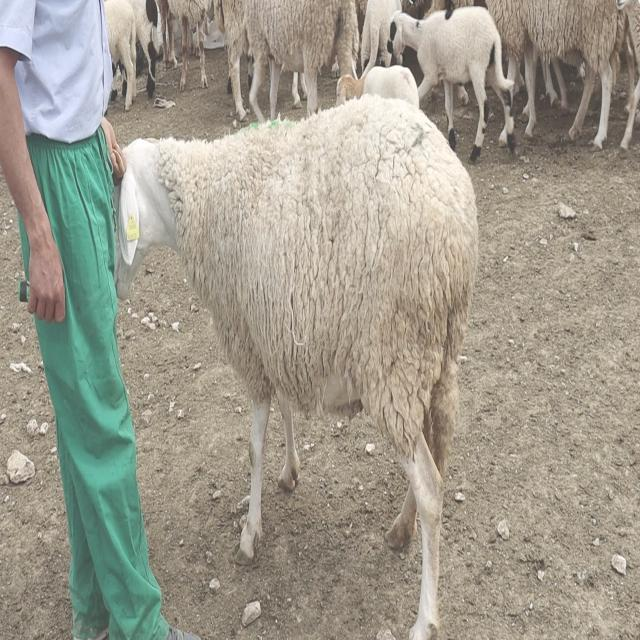Score_5: (113, 94, 478, 639)
